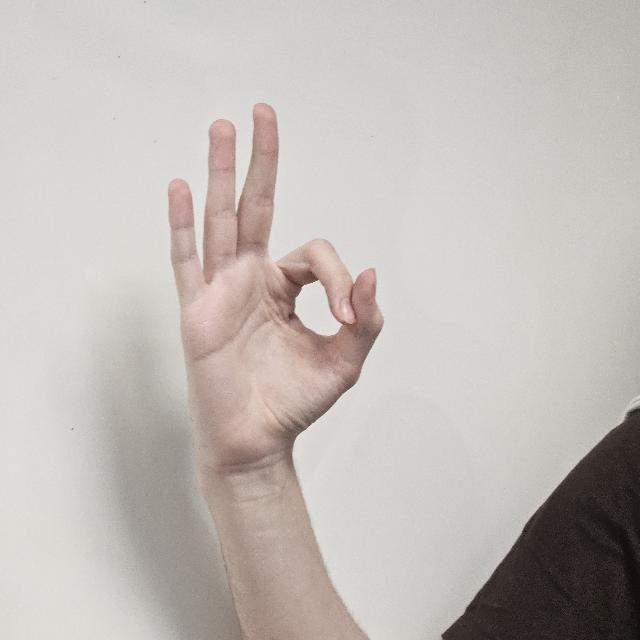Bolinha: (168, 100, 384, 522)
